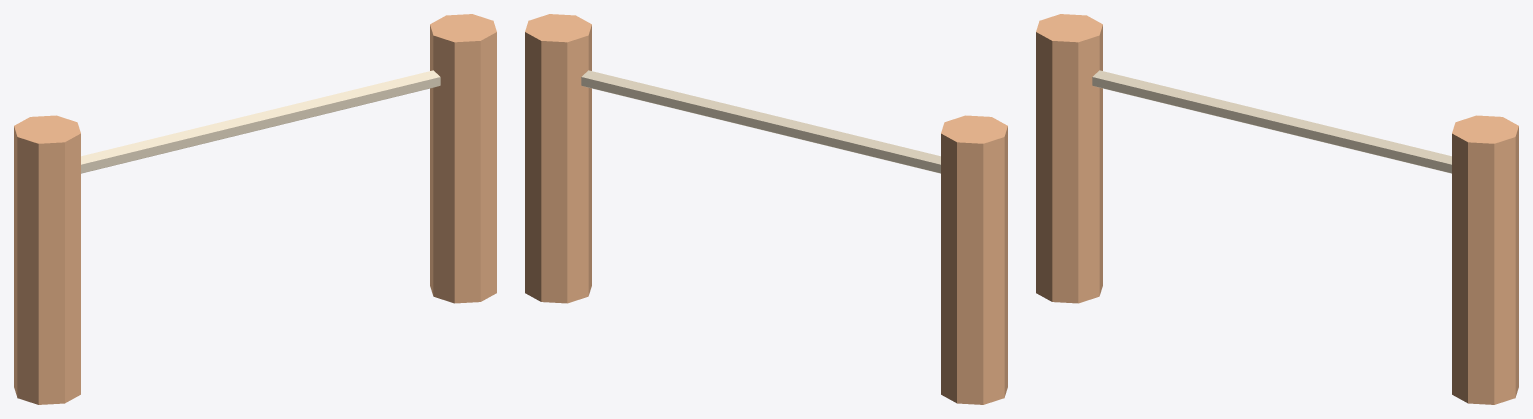
3 renders of one model, left to right at view 1: azimuth 30°, elevation 25°; view 2: azimuth 150°, elevation 25°; view 3: azimuth 330°, elevation 25°, orthographic.
Visible parts, largest first — view 1: Boundary post, Boundary post.001, Rope; view 2: Boundary post, Boundary post.001, Rope; view 3: Boundary post.001, Boundary post, Rope.
Boxes of the visible parts, box(x1,y1,x2,y2) form: Boundary post: box(14, 115, 80, 404); Boundary post.001: box(430, 14, 496, 303); Rope: box(81, 70, 440, 173); Boundary post: box(941, 115, 1007, 404); Boundary post.001: box(525, 14, 591, 303); Rope: box(581, 70, 940, 173); Boundary post.001: box(1452, 115, 1518, 404); Boundary post: box(1036, 14, 1102, 303); Rope: box(1092, 70, 1451, 173).
Size of the model in its own units: 103 by 54 by 13.
